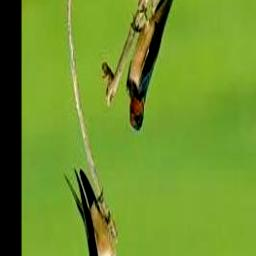Swallow: (127, 0, 186, 132), (65, 168, 118, 256)
